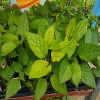Bell_pepper leaf: (26, 30, 48, 60), (50, 69, 69, 98), (51, 40, 72, 62), (29, 59, 52, 79), (77, 43, 99, 61), (72, 20, 89, 43), (59, 58, 74, 84), (17, 9, 29, 38), (5, 78, 20, 100), (34, 78, 48, 100), (70, 62, 81, 88), (28, 19, 49, 32), (1, 42, 21, 55), (44, 24, 55, 46), (0, 33, 20, 45), (66, 17, 76, 38), (19, 47, 29, 68), (37, 19, 48, 38), (54, 28, 65, 43)
